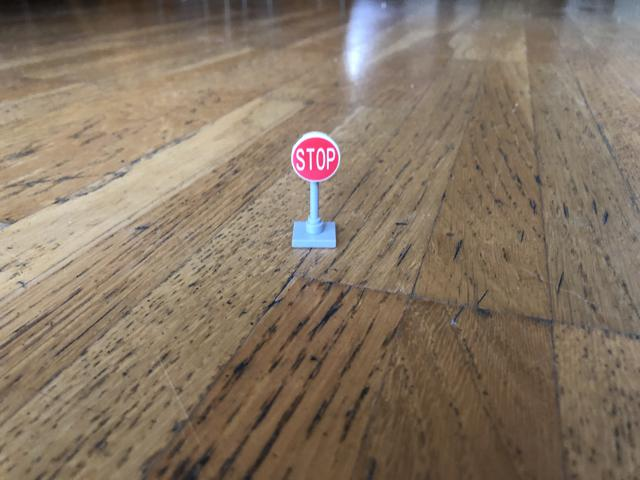stop: (292, 132, 342, 183)
